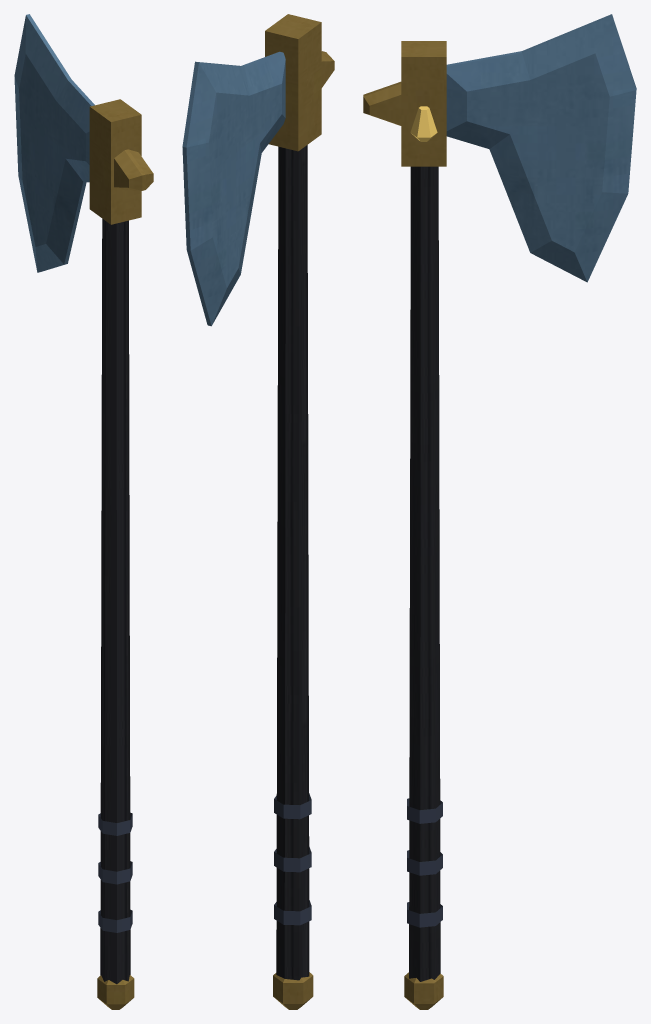
The model's file is wpn_axe_rare.glb.
3 renders of one model, left to right at view 1: azimuth 30°, elevation 25°; view 2: azimuth 150°, elevation 25°; view 3: azimuth 270°, elevation 25°, orthographic. The views are drawn at different scales.
Parts seen in each view (by area): view 1: wpn_axe_rare; view 2: wpn_axe_rare; view 3: wpn_axe_rare.
Part boxes in pixels (x1,y1,x2,y2): wpn_axe_rare: (14,14,153,1009); wpn_axe_rare: (182,14,334,1009); wpn_axe_rare: (363,14,636,1009).
Bounding box in the file's own units: 0.0706 × 1.45 × 0.3608.
5 materials, 5 textured.
